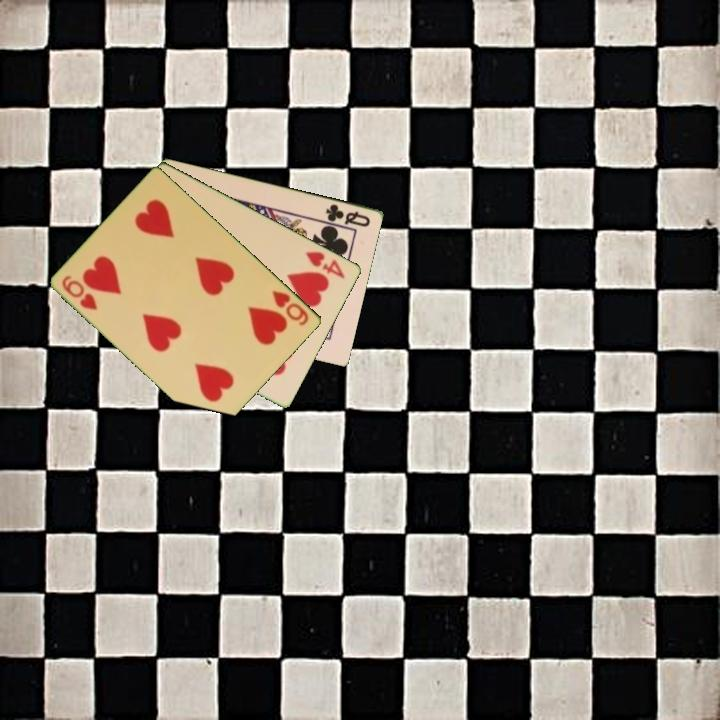4h: (302, 248, 349, 281)
6h: (269, 287, 312, 329), (58, 271, 101, 313)
Qc: (322, 200, 374, 230)
